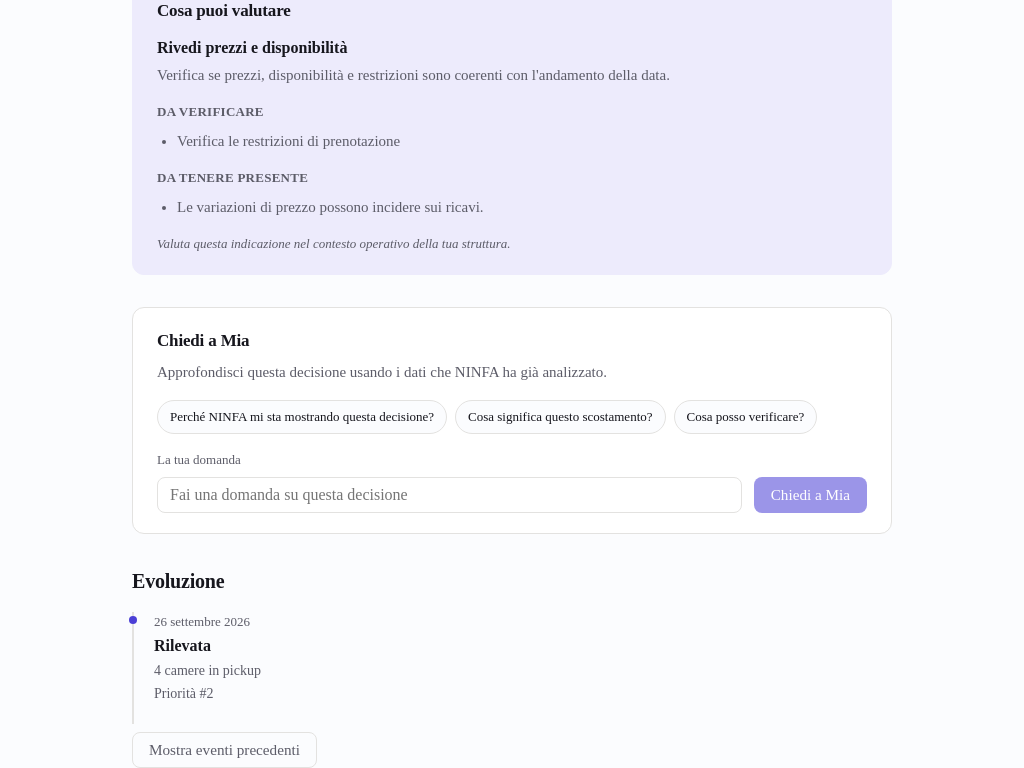
Test case: DecisionDetailView - history pagination › loads the first page, then appends a second page on load-more, preserving order and no duplicates
The image size is (1024, 768).
(page scrolled)
Click the button "Mostra eventi precedenti". click: (224, 750)
box: [132,732,317,767]
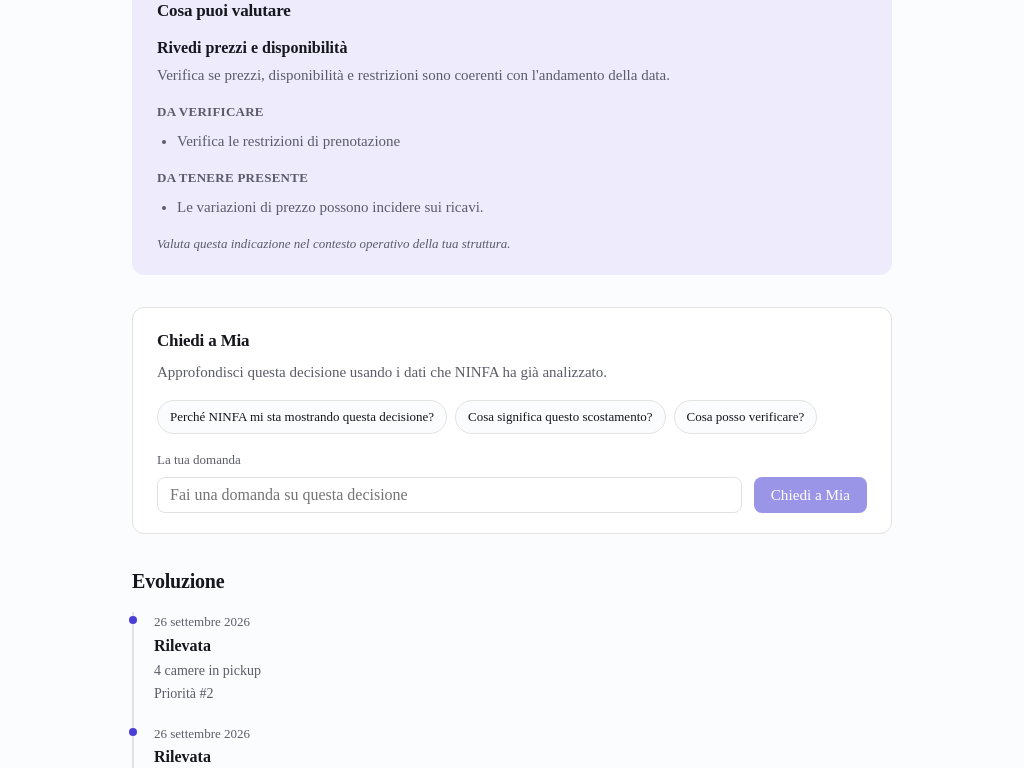
Now the button "Mostra eventi precedenti" is gone
